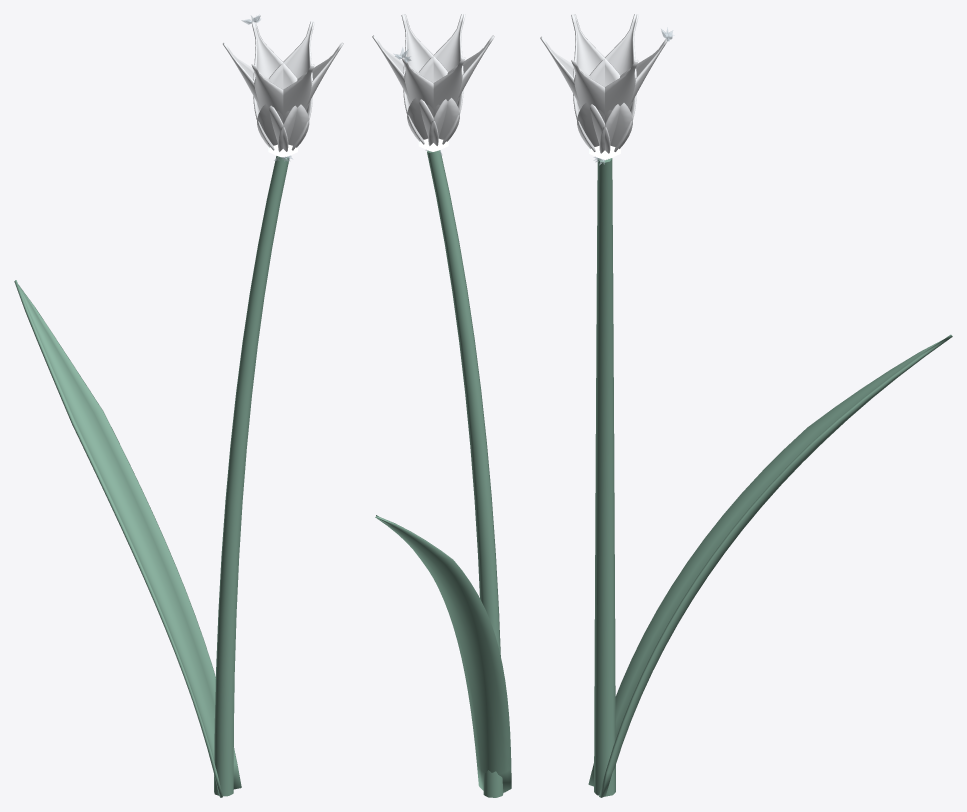
Rendered from smoke_test.glb.
3 views of the same model, side by side, from view 1: azimuth 30°, elevation 25°; view 2: azimuth 150°, elevation 25°; view 3: azimuth 270°, elevation 25° (orthographic). The views are drawn at different scales.
Visible parts, largest first — view 1: leaf, stem, petal2, petal3, petal5, petal0, petal4, petal1; view 2: leaf, stem, petal1, petal0, petal4, petal3, petal2, petal5; view 3: stem, leaf, petal4, petal5, petal1, petal2, petal3, petal0.
Part boxes in pixels (x1=…): leaf: x1=14, y1=280, x2=241, y2=797; stem: x1=214, y1=156, x2=289, y2=796; petal2: x1=251, y1=64, x2=309, y2=147; petal3: x1=257, y1=64, x2=314, y2=147; petal5: x1=269, y1=21, x2=314, y2=150; petal0: x1=251, y1=21, x2=297, y2=150; petal4: x1=278, y1=42, x2=343, y2=151; petal1: x1=223, y1=42, x2=288, y2=151; leaf: x1=375, y1=515, x2=511, y2=792; stem: x1=427, y1=150, x2=503, y2=797; petal1: x1=407, y1=57, x2=465, y2=141; petal0: x1=401, y1=57, x2=459, y2=141; petal4: x1=401, y1=14, x2=448, y2=151; petal3: x1=419, y1=14, x2=465, y2=144; petal2: x1=428, y1=35, x2=494, y2=151; petal5: x1=372, y1=35, x2=438, y2=145; stem: x1=594, y1=158, x2=615, y2=796; leaf: x1=588, y1=334, x2=952, y2=797; petal4: x1=571, y1=60, x2=632, y2=148; petal5: x1=577, y1=60, x2=638, y2=148; petal1: x1=589, y1=14, x2=638, y2=159; petal2: x1=571, y1=14, x2=620, y2=159; petal3: x1=540, y1=36, x2=610, y2=159; petal0: x1=599, y1=37, x2=668, y2=159.
Bounding box in the file's own units: 0.0545 × 0.2391 × 0.1125.
